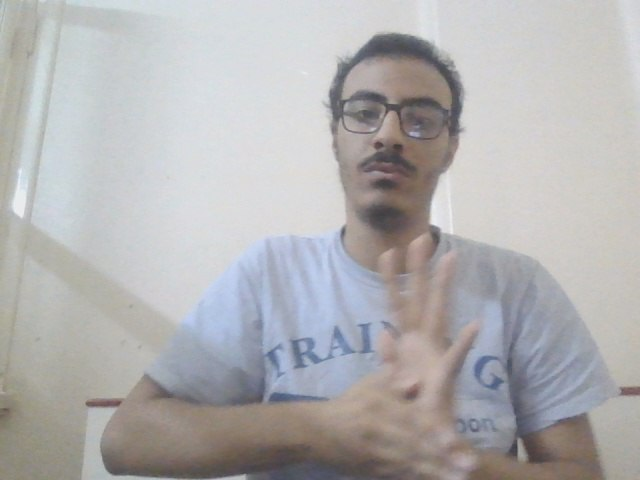Movie: (319, 233, 498, 480)
